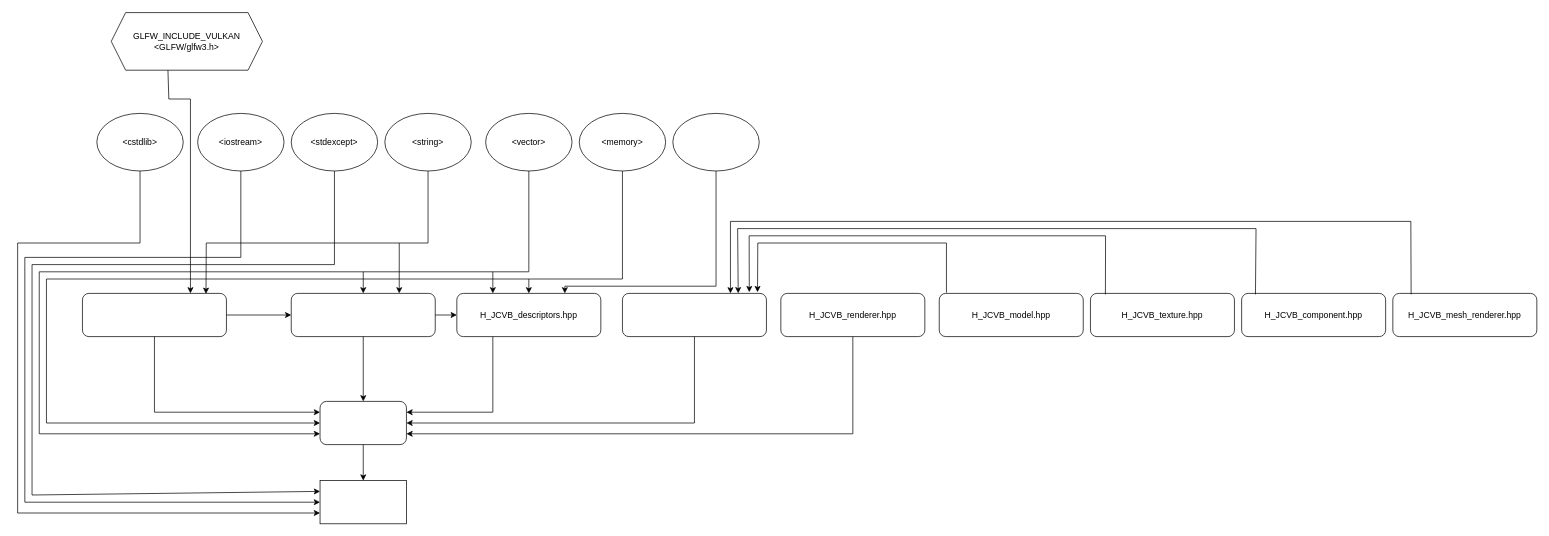
Image size: 1549x536. Some labels were removed from this diagram. Here are the shapes that lost their labels. From the top down, the centre of each, then its label:
point 715,142: <unordered_map>
point 154,315: H_JCVB_window.hpp
point 363,315: H_JCVB_device.hpp
point 694,315: H_JCVB_game_object.hpp
point 362,423: H_first_app.hpp
point 362,502: main.cpp
